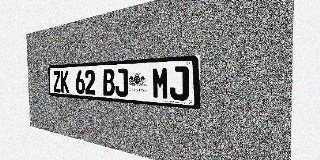2: (85, 69, 95, 95)
6: (75, 70, 85, 94)
B: (102, 69, 115, 96)
J: (169, 66, 189, 101), (115, 68, 128, 97)
K: (60, 71, 69, 93)
M: (152, 67, 169, 100)
Z: (53, 71, 61, 92)
